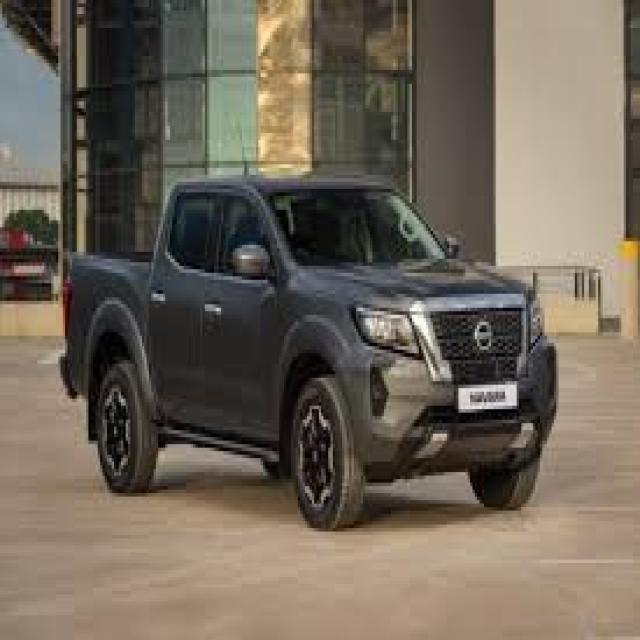Pickup Trucks: (58, 175, 556, 531)
